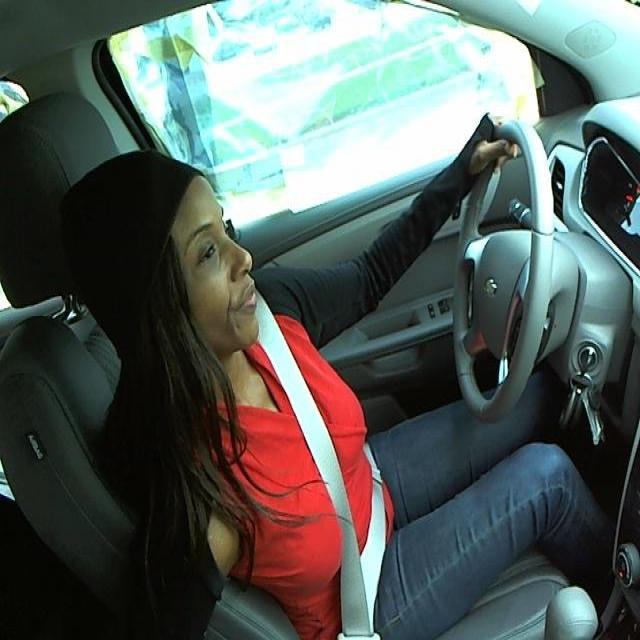seatbelt: (254, 349, 397, 631)
